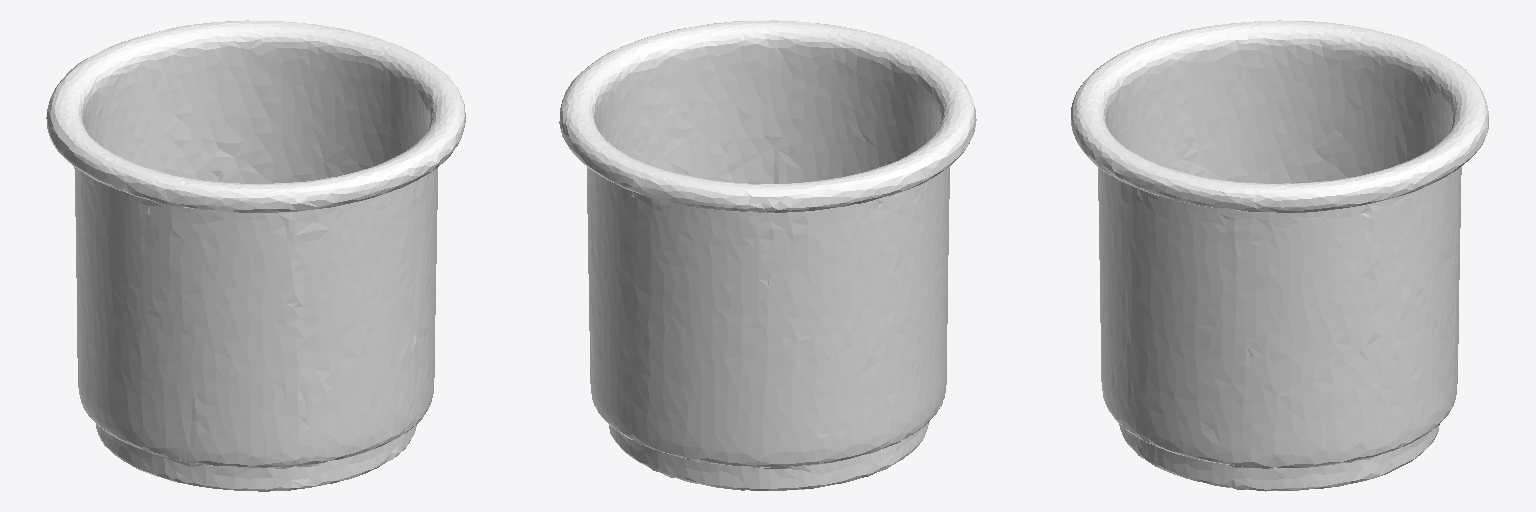
The robot description file, URDF, robot "g_cups":
<robot name="g_cups">
    <link name="base_link">
        <visual>
            <origin xyz="0.0 -0.0 -0.0" rpy="0.0 0.0 0.0" />
            <geometry>
                <mesh filename="g_cups/textured.obj" scale="1 1 1" />
            </geometry>
            <material name="texture">
                <color rgba="1.0 1.0 1.0 1.0" />
            </material>
        </visual>
        <collision>
            <origin xyz="0.0 -0.0 -0.0" rpy="0.0 0.0 0.0" />
            <geometry>
                <mesh filename="g_cups/textured_coacd_0.stl" scale="1 1 1" />
            </geometry>
        </collision>
        <collision>
            <origin xyz="0.0 -0.0 -0.0" rpy="0.0 0.0 0.0" />
            <geometry>
                <mesh filename="g_cups/textured_coacd_1.stl" scale="1 1 1" />
            </geometry>
        </collision>
        <collision>
            <origin xyz="0.0 -0.0 -0.0" rpy="0.0 0.0 0.0" />
            <geometry>
                <mesh filename="g_cups/textured_coacd_2.stl" scale="1 1 1" />
            </geometry>
        </collision>
        <collision>
            <origin xyz="0.0 -0.0 -0.0" rpy="0.0 0.0 0.0" />
            <geometry>
                <mesh filename="g_cups/textured_coacd_3.stl" scale="1 1 1" />
            </geometry>
        </collision>
        <collision>
            <origin xyz="0.0 -0.0 -0.0" rpy="0.0 0.0 0.0" />
            <geometry>
                <mesh filename="g_cups/textured_coacd_4.stl" scale="1 1 1" />
            </geometry>
        </collision>
        <inertial>
            <mass value="0.028" />
            <inertia ixx="1e-3" ixy="0.0" ixz="0.0" iyy="1e-3" iyz="0.0" izz="1e-3" />
        </inertial>
    </link>
</robot>

--- Render facts (derived) ---
The picture shows the robot from 3 angles, left to right: view 1: azimuth 30°, elevation 25°; view 2: azimuth 150°, elevation 25°; view 3: azimuth 270°, elevation 25°; orthographic projection.
Model g_cups with 1 links and 0 joints (none), rooted at base_link, posed all joints at 0.
Visible links, largest first — view 1: base_link; view 2: base_link; view 3: base_link.
Link boxes in pixels (x1,y1,x2,y2): base_link: (46,20,465,491); base_link: (559,20,976,490); base_link: (1071,20,1488,491).
Size in the robot's own frame: 0.0867 by 0.0868 by 0.0738 metres.
Meshes: 1 distinct files referenced, 1 mesh visuals loaded (1 OBJ).